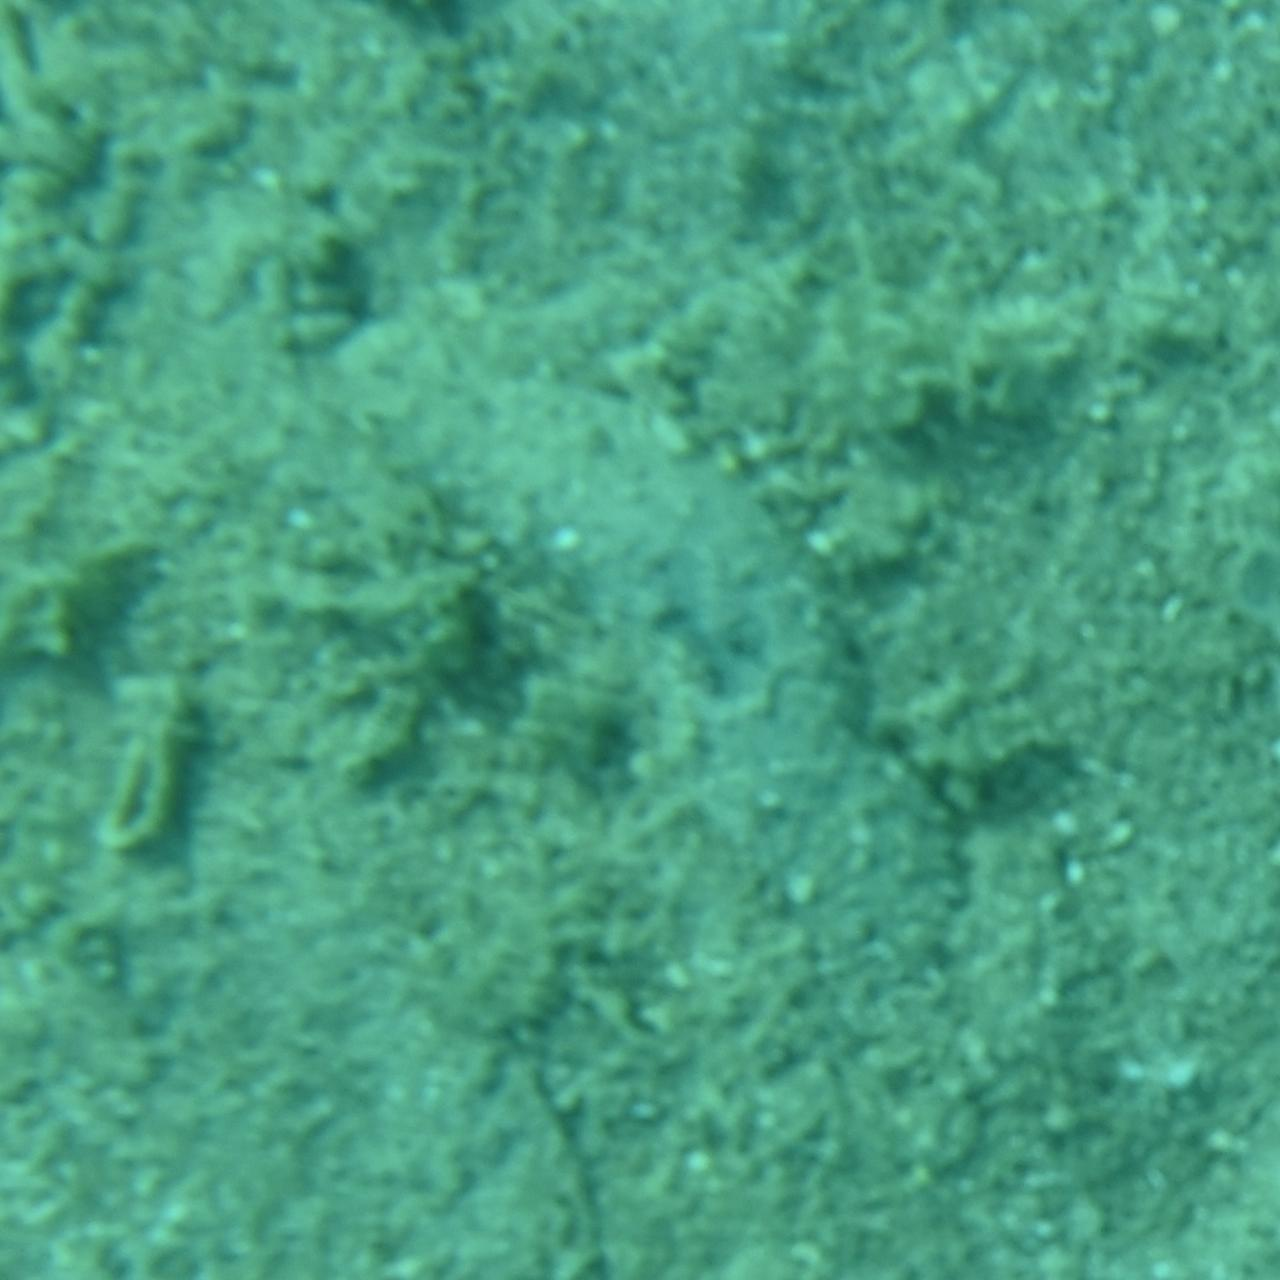Holothuria tubulosa: (300, 297, 980, 983)
